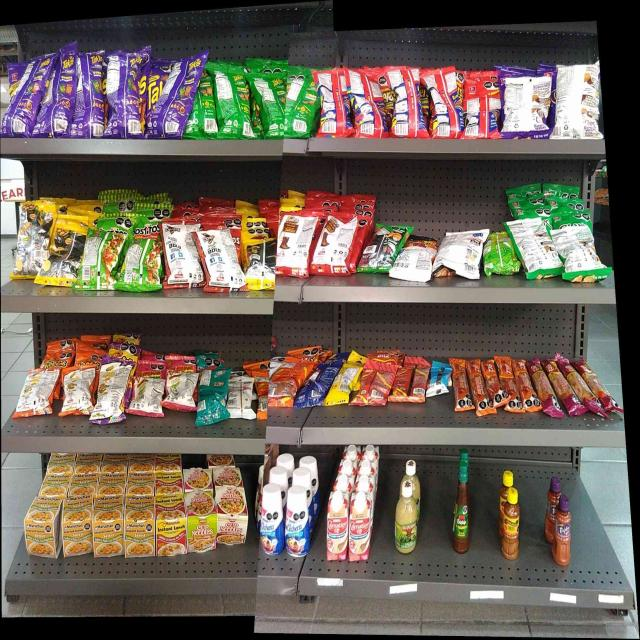bitzEnchilado95: (518, 358, 535, 412), (452, 358, 468, 411), (470, 359, 485, 415), (502, 357, 516, 413), (487, 360, 500, 405)
bitzHabanero: (536, 359, 618, 418)
botaneraChilito: (501, 487, 520, 561)
delPrimoSalsa: (394, 480, 418, 554)
maruchanPollo: (26, 497, 60, 557), (124, 496, 153, 557), (94, 496, 122, 556), (62, 499, 92, 554)
maruchanRes: (155, 495, 184, 555)
nestleCarnation: (327, 489, 348, 562), (350, 493, 370, 562)
nestleLechera: (284, 485, 310, 557), (261, 485, 283, 555)
nissinCamaron: (186, 492, 215, 551)
nissinRes: (216, 486, 248, 545)
productoAtras: (556, 63, 599, 140), (106, 49, 142, 138), (504, 76, 548, 139), (557, 228, 607, 281), (202, 230, 244, 287), (390, 69, 423, 138), (18, 204, 48, 279), (427, 68, 459, 138), (77, 54, 104, 136), (218, 70, 250, 139), (164, 224, 199, 285), (515, 222, 554, 276), (160, 66, 189, 138), (352, 72, 382, 140), (318, 73, 349, 138), (257, 74, 287, 140), (46, 59, 72, 134), (465, 81, 498, 140), (279, 212, 310, 274), (320, 216, 354, 272), (14, 60, 39, 136), (123, 240, 161, 290), (439, 232, 481, 276), (85, 229, 116, 287), (50, 224, 79, 286), (99, 366, 126, 422), (290, 77, 315, 137), (199, 369, 227, 419), (192, 80, 216, 138), (21, 371, 54, 413), (247, 241, 277, 285), (366, 225, 395, 270), (130, 376, 162, 416), (360, 362, 389, 404), (396, 362, 426, 402), (167, 368, 196, 408), (396, 248, 433, 279), (64, 372, 92, 412), (484, 234, 512, 273), (305, 364, 330, 405), (275, 359, 297, 403), (230, 377, 252, 415), (336, 364, 355, 403), (430, 364, 450, 396)
salsaBufalo: (453, 460, 470, 552)
tajinDulce: (552, 493, 572, 568)
